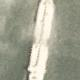ship: (12, 0, 62, 40)
